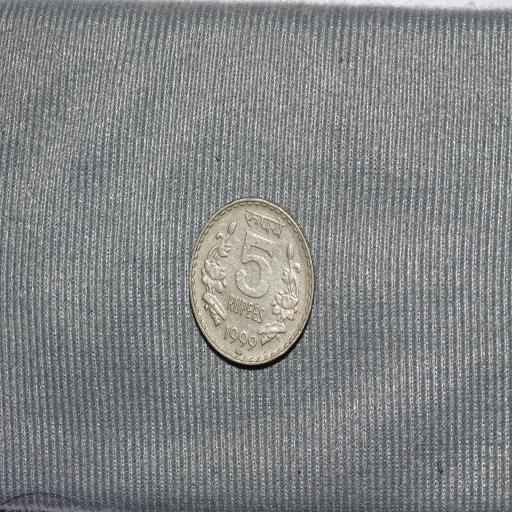rupee5: (188, 199, 319, 366)
